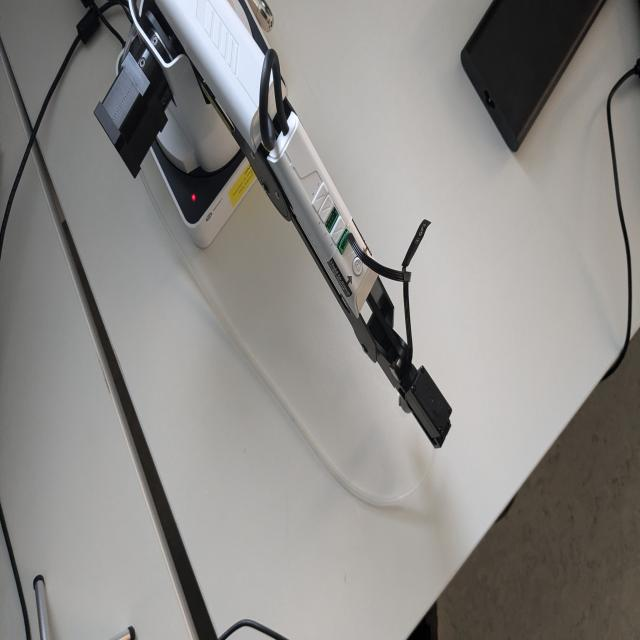Robot-end-effector-HF8z: (392, 362, 454, 451)
